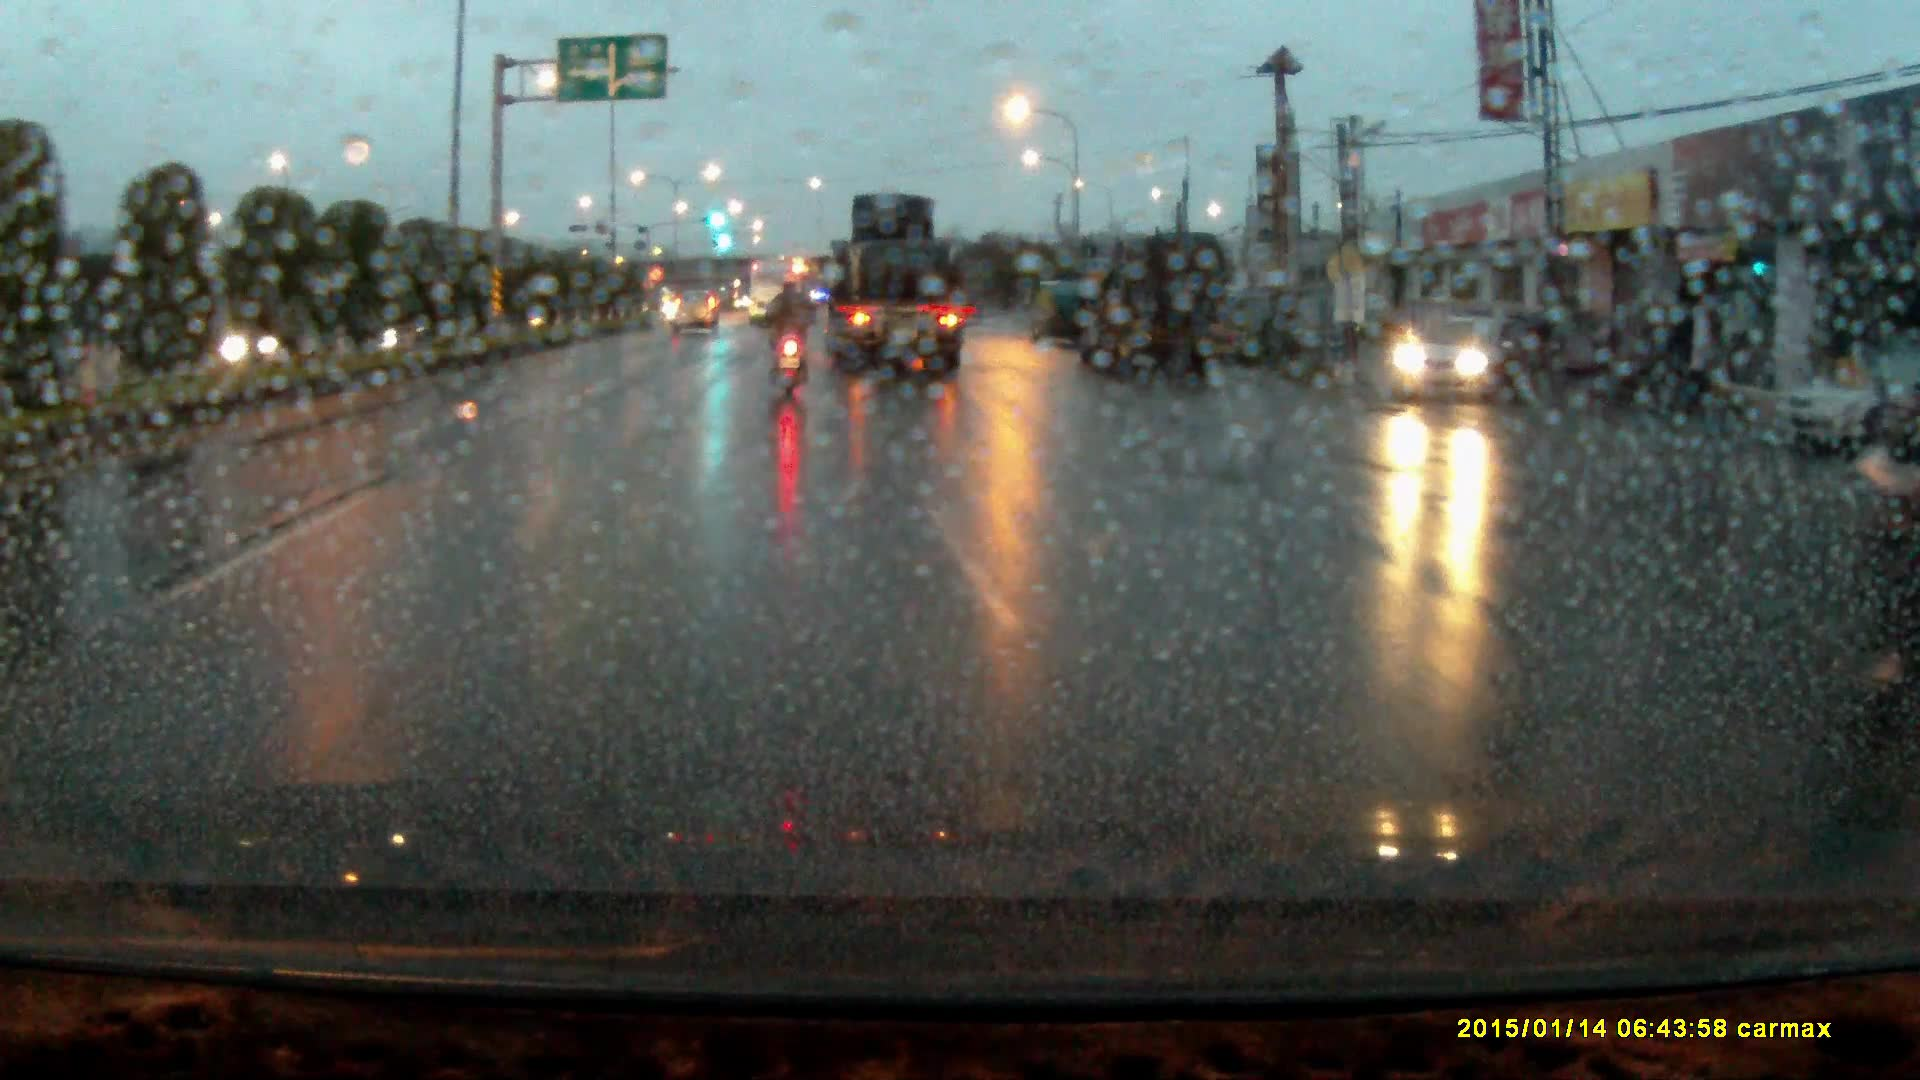rider: (766, 272, 823, 399)
vehicle: (826, 194, 964, 377), (1076, 228, 1229, 382), (1784, 345, 1920, 464), (1402, 318, 1542, 413), (1029, 283, 1089, 347), (749, 262, 805, 322), (672, 291, 722, 338)
